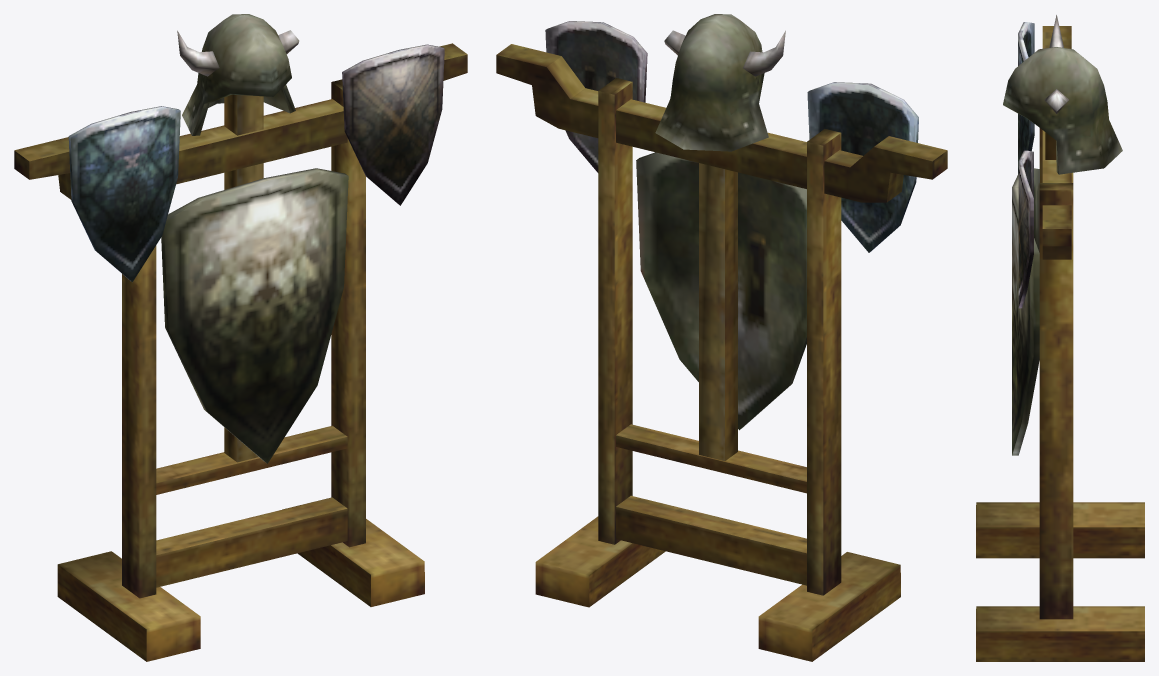
Rendered from b_general_obj_36.fbx.
3 views of the same model, side by side, from view 1: azimuth 30°, elevation 25°; view 2: azimuth 150°, elevation 25°; view 3: azimuth 270°, elevation 25° (orthographic). The views are drawn at different scales.
Parts seen in each view (by area): view 1: Mesh07; view 2: Mesh07; view 3: Mesh07.
Boxes of the visible parts, x1,y1,x2,y2 form: Mesh07: (14, 14, 467, 661); Mesh07: (496, 14, 947, 661); Mesh07: (976, 15, 1144, 661).
Size of the model in its own units: 1.94 by 2.46 by 0.6819.
